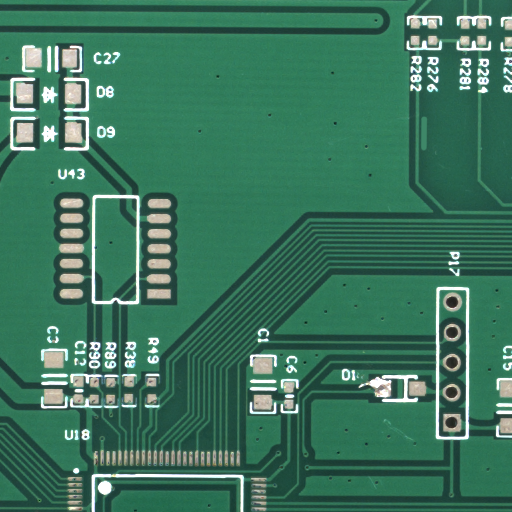Spurious_copper: (424, 133, 431, 168)
